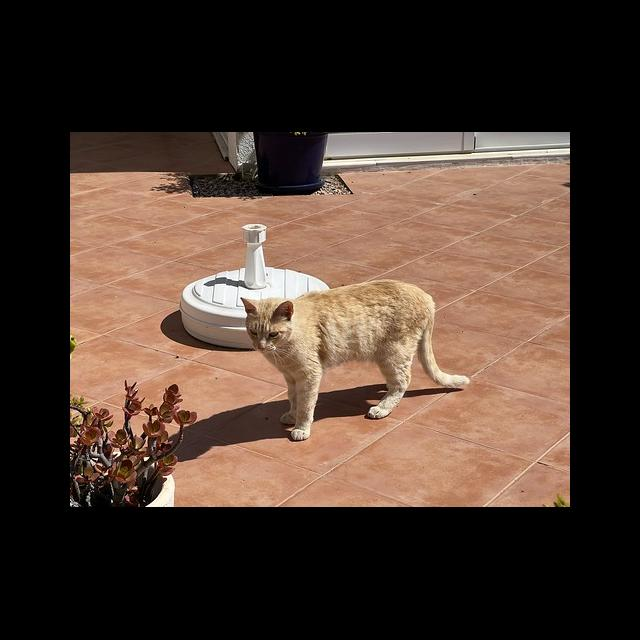animals: (240, 280, 470, 440)
